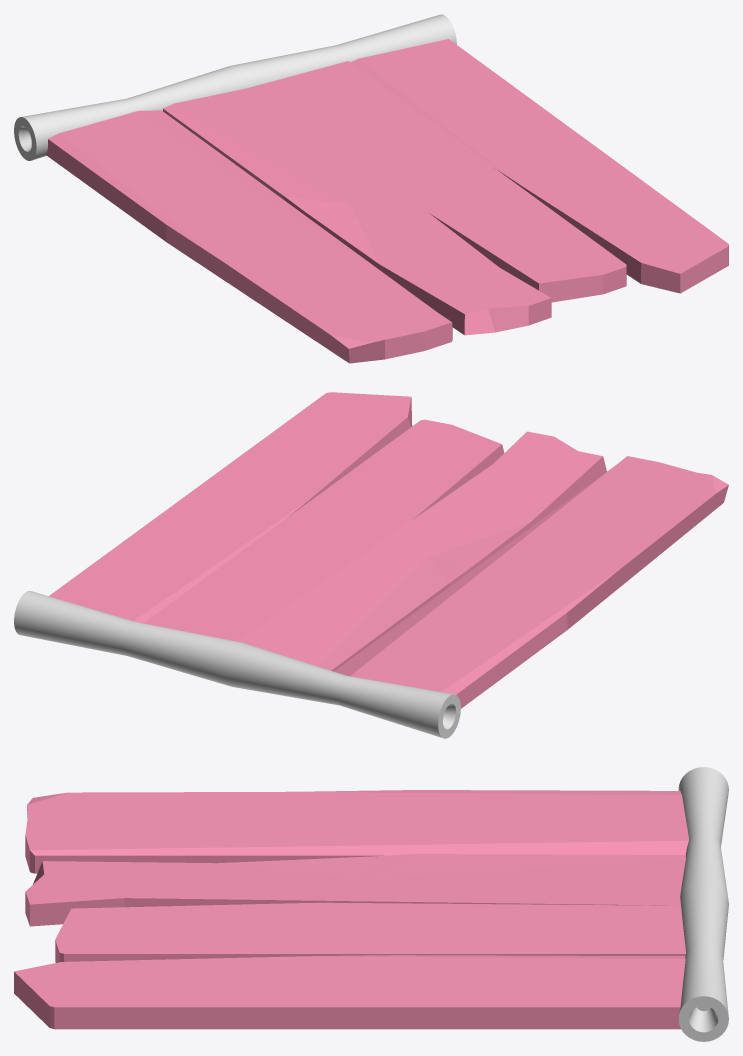
File: Trap door.fbx
3 views of the same model, one above another, from view 1: azimuth 30°, elevation 25°; view 2: azimuth 150°, elevation 25°; view 3: azimuth 270°, elevation 25° (orthographic). The views are drawn at different scales.
Visible parts, largest first — view 1: hingeplank, Hinge; view 2: hingeplank, Hinge; view 3: hingeplank, Hinge.
Part boxes in pixels (x1,y1,x2,y2): hingeplank: (45, 39, 728, 363); Hinge: (14, 14, 456, 160); hingeplank: (49, 392, 728, 708); Hinge: (14, 591, 460, 738); hingeplank: (14, 790, 688, 1029); Hinge: (678, 767, 728, 1041).
Size of the model in its own units: 485 by 45.13 by 639.
